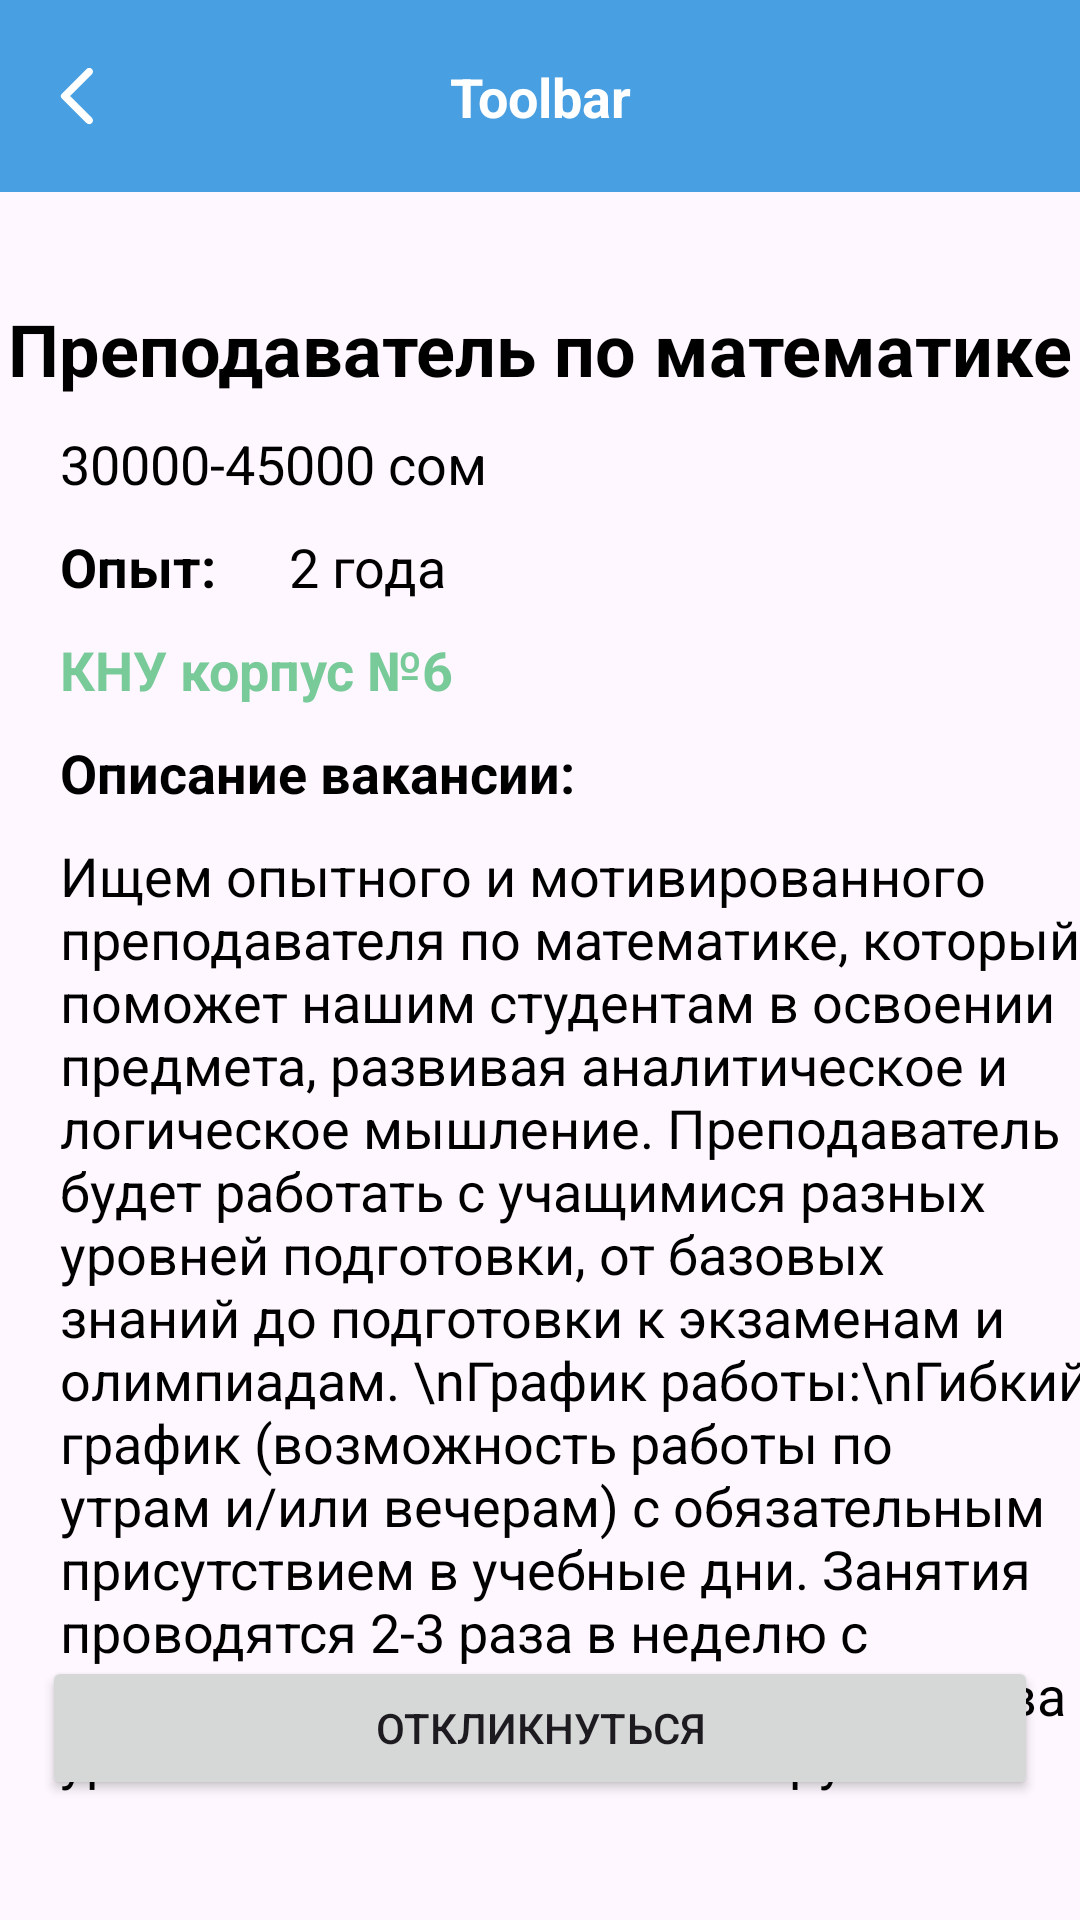

Where to tap for icons on this 1080×1920 app screen, as [x,y]:
back: [76,96]
